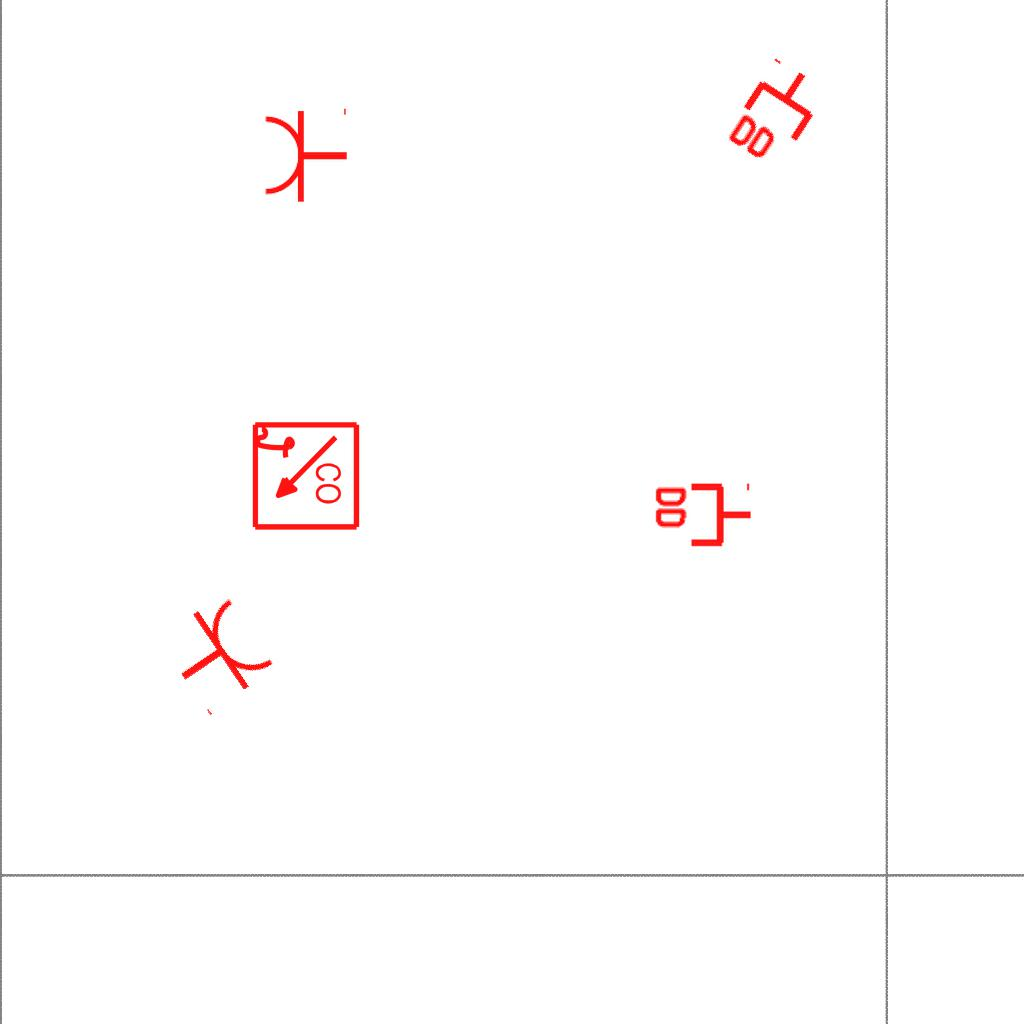Datenanschluss_zweifach: (720, 53, 835, 178), (651, 482, 754, 551)
ROA_Rauchmelder_optisch_mit_Signalgeber_(Sockelsirene): (248, 420, 361, 533)
Schukosteckdose_einfach: (154, 589, 283, 721), (262, 104, 349, 204)
